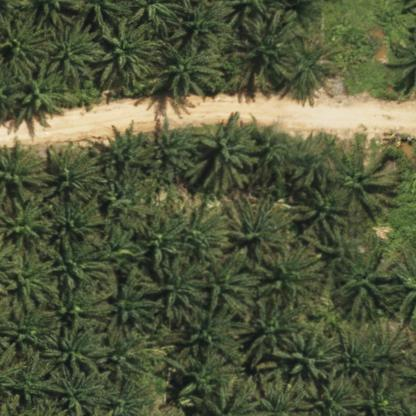Palm Oil: (320, 132, 403, 224), (221, 191, 294, 272), (332, 235, 394, 330), (197, 111, 263, 195), (239, 293, 310, 368), (172, 302, 251, 366), (96, 16, 161, 93), (256, 241, 325, 310), (272, 316, 342, 384), (237, 7, 299, 83), (40, 281, 116, 343), (43, 190, 110, 260), (41, 319, 114, 382), (202, 245, 258, 324), (154, 36, 225, 98), (95, 334, 172, 389), (42, 237, 112, 297), (105, 271, 166, 338), (40, 142, 108, 201), (366, 317, 416, 397), (43, 17, 100, 87), (284, 33, 342, 99), (102, 119, 159, 184), (151, 259, 208, 324), (175, 348, 246, 398), (11, 63, 65, 128), (308, 214, 365, 275), (181, 201, 232, 269), (330, 324, 384, 386), (248, 117, 292, 192), (149, 119, 197, 185), (293, 185, 351, 238), (85, 222, 147, 269), (288, 130, 333, 194), (141, 211, 189, 271)
